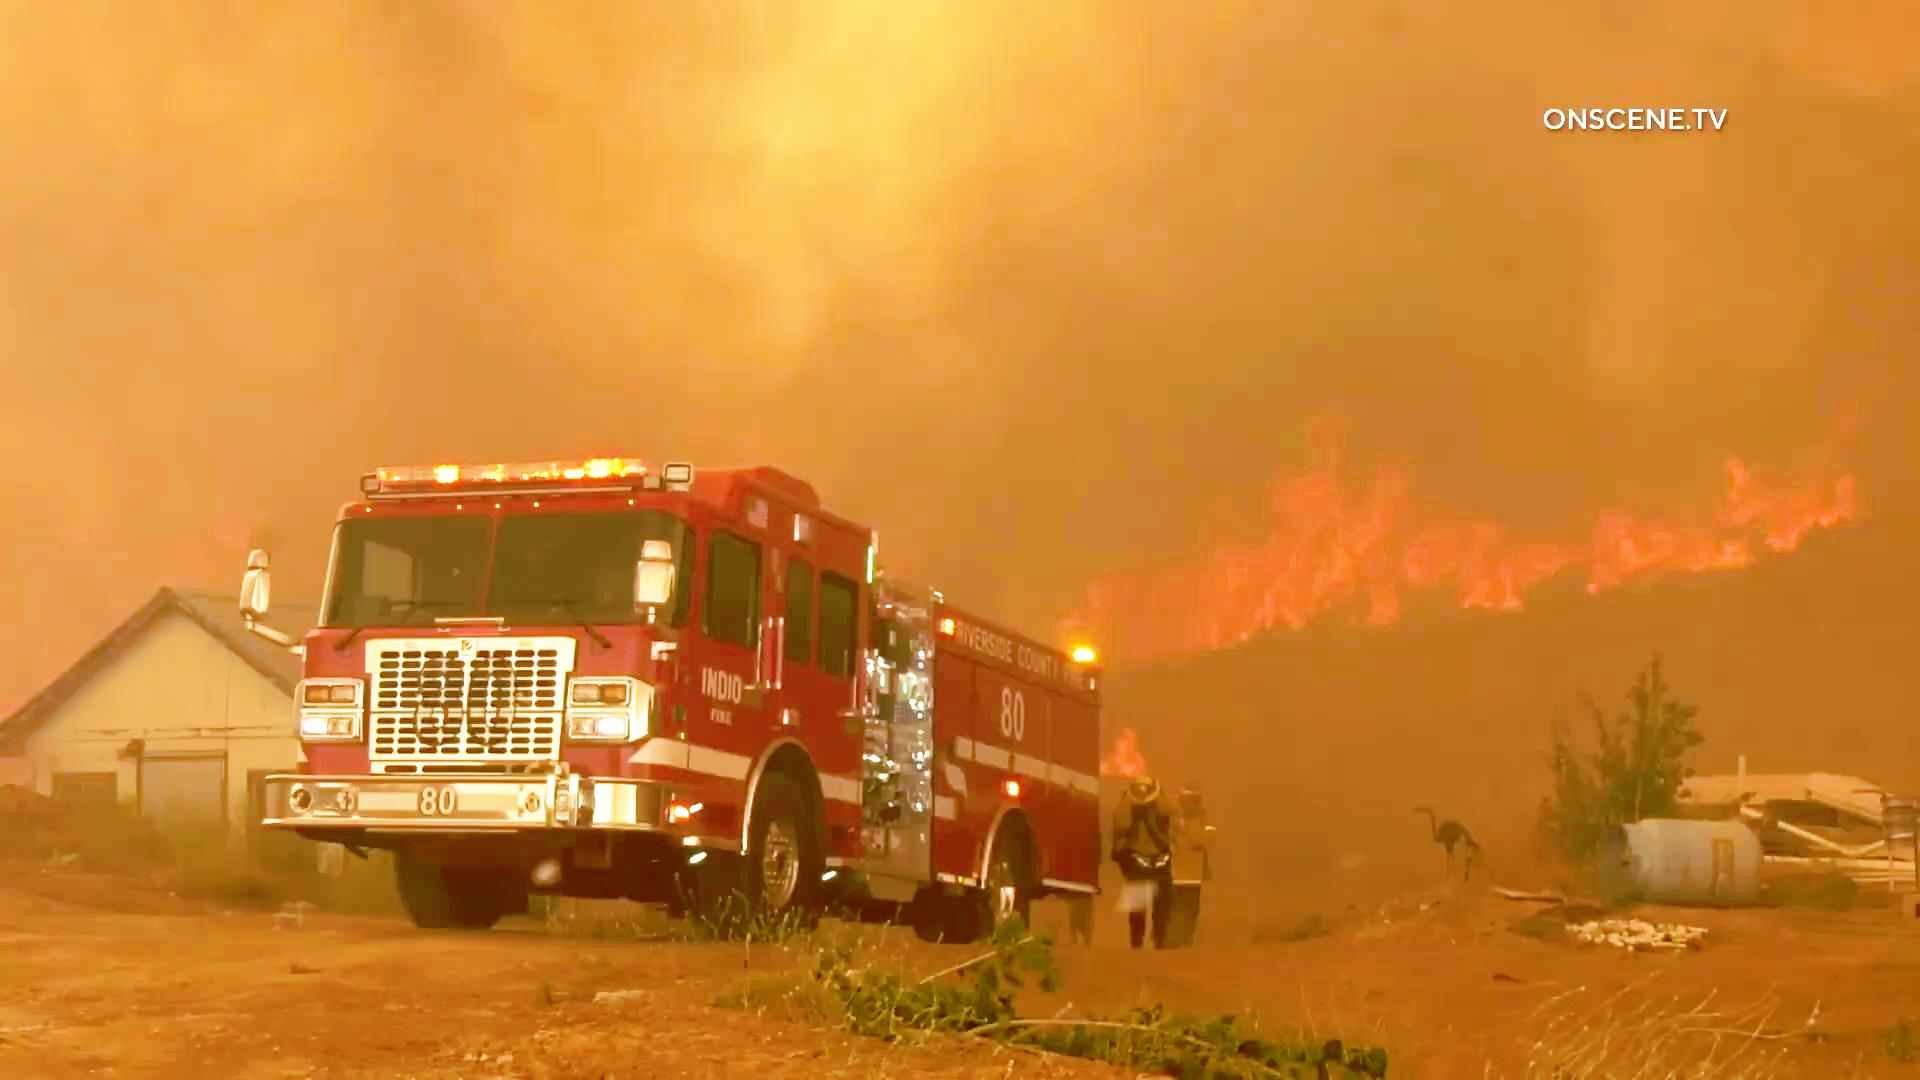fire: (1543, 473, 1875, 633), (1258, 433, 1435, 666)
smoke: (773, 61, 1505, 417)
